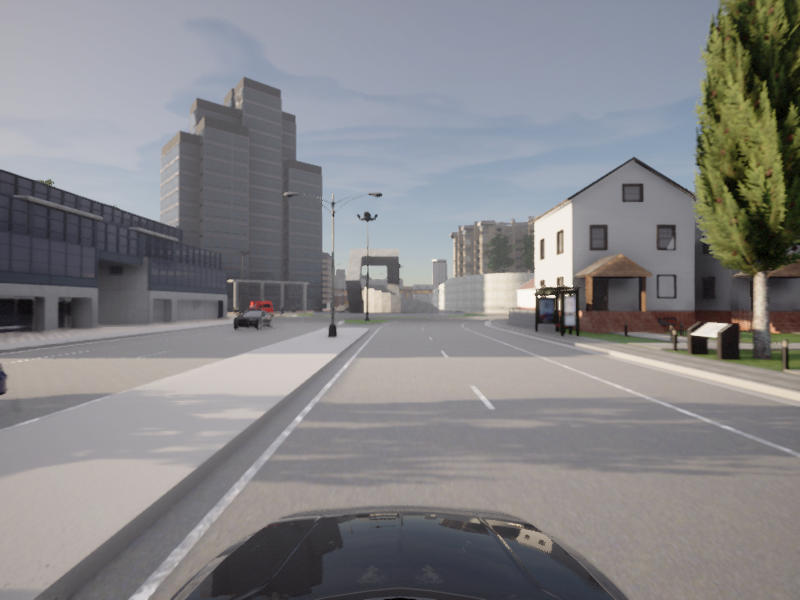vehicle: (0, 333, 30, 570), (228, 308, 274, 331)
